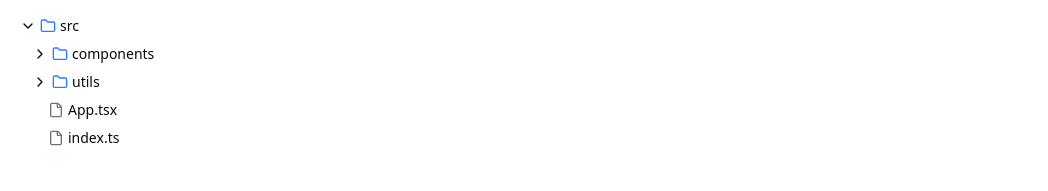
Scenario: File Drag and Drop › Drop at Root Level › moves file to root level when dropped on root folder
The width and height of the screenshot is (1048, 191).
Note: Click to expand components folder to see Button.tsx
Click the list item with test id "folder-components". click: click(113, 54)
box: 12,40 -> 1036,68
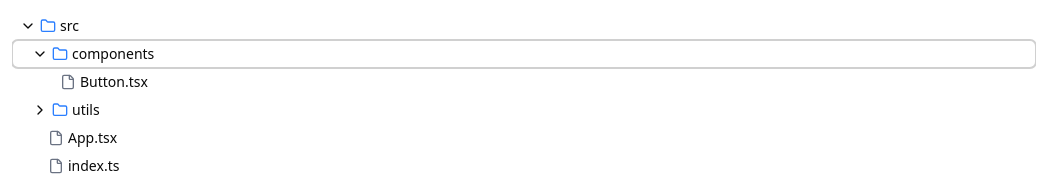
Check: the list item with test id "file-Button.tsx" is shown, box 60,72 -> 148,91
